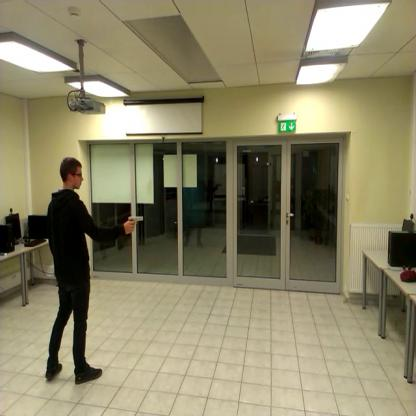Pistol: (121, 215, 152, 239)
